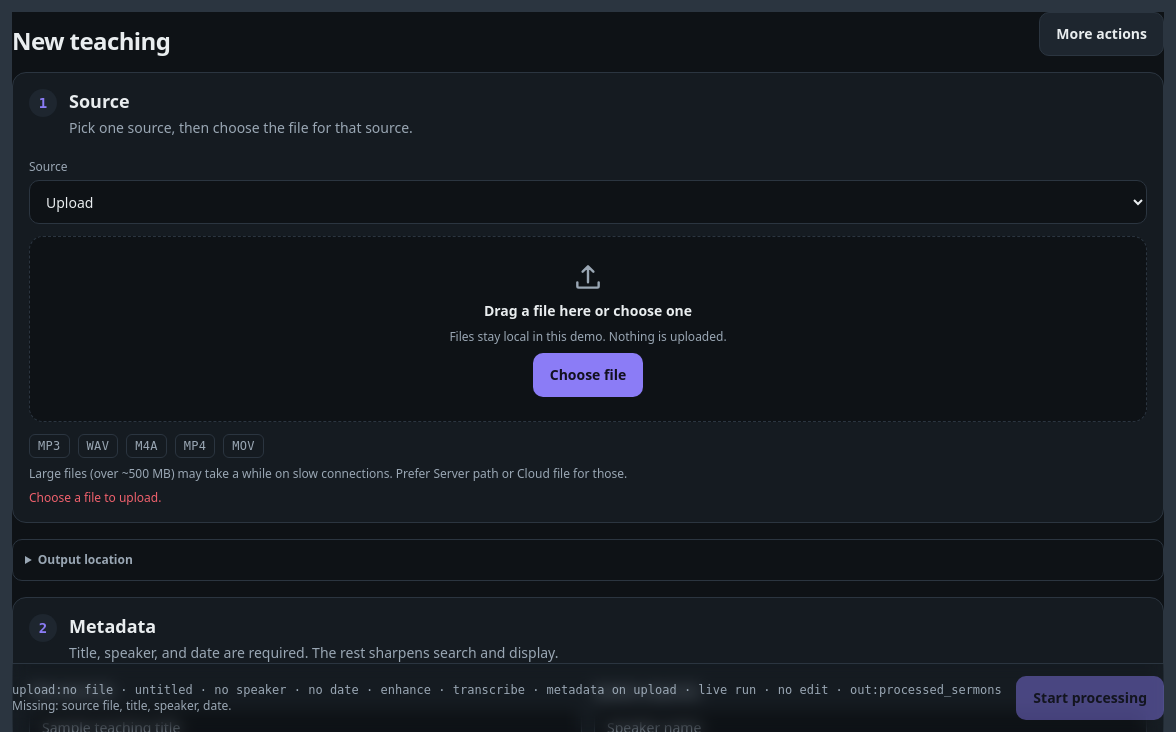
Test: NewSermon demo mode › browses the mock cloud fallback without a live API
Select "Cloud file" in the dropdown labelled "Source" at (588, 202), box [29,180,1147,224]
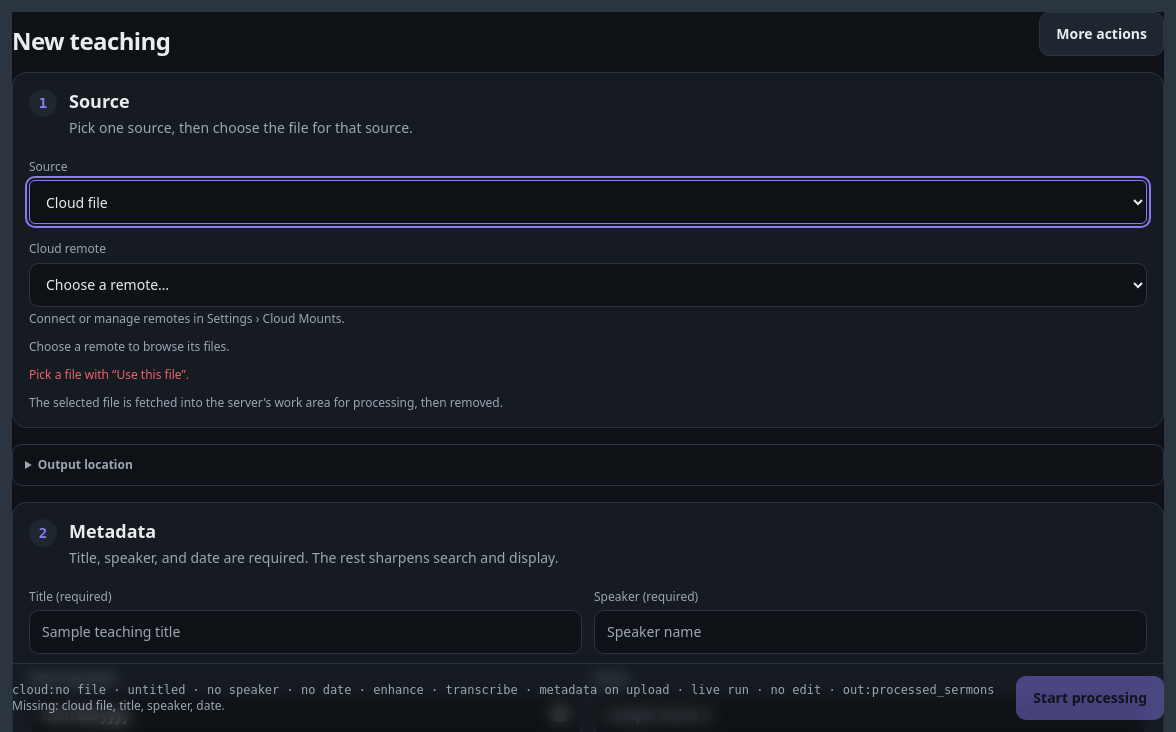
Select "sermons-drive · drive" in the dropdown labelled "Cloud remote" at (588, 285), box [29,263,1147,307]
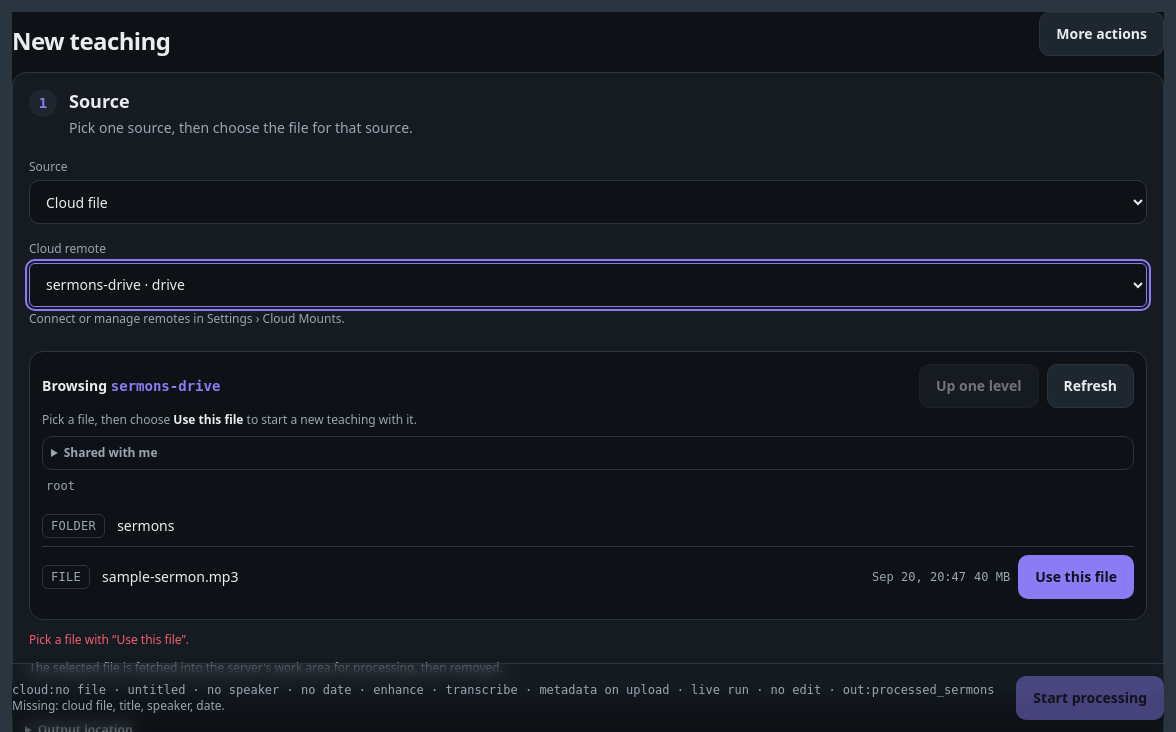
Check: the text "sample-sermon.mp3" is shown, box [102,567,238,586]
